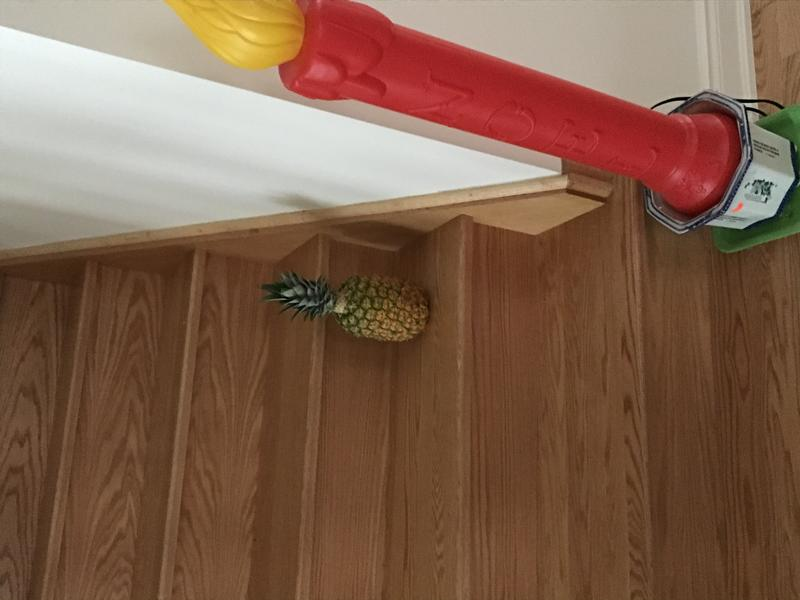pineapple: (248, 266, 442, 346)
